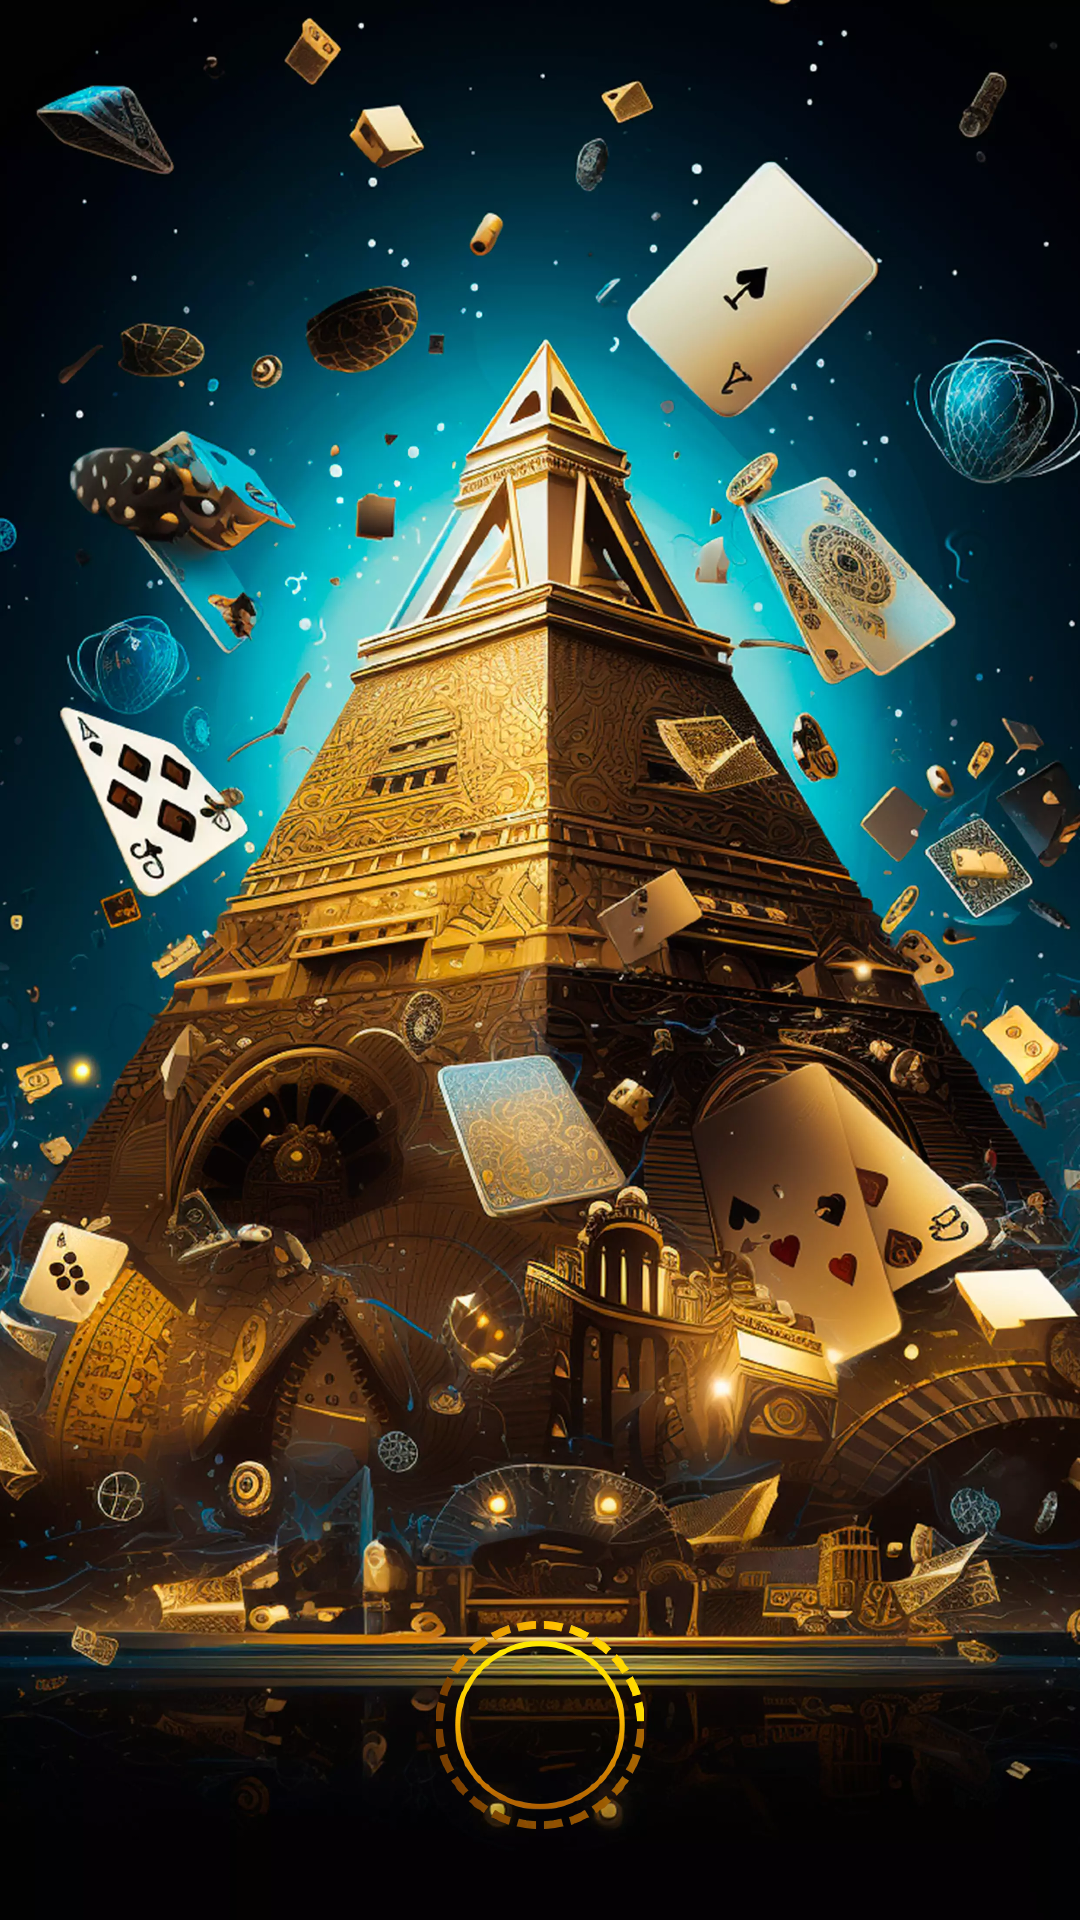

Point at icon controls on the screen. Image size 1080w x 1920h, points as (x=x, y=y).
progress bar pyra mid: (x=540, y=1725)
